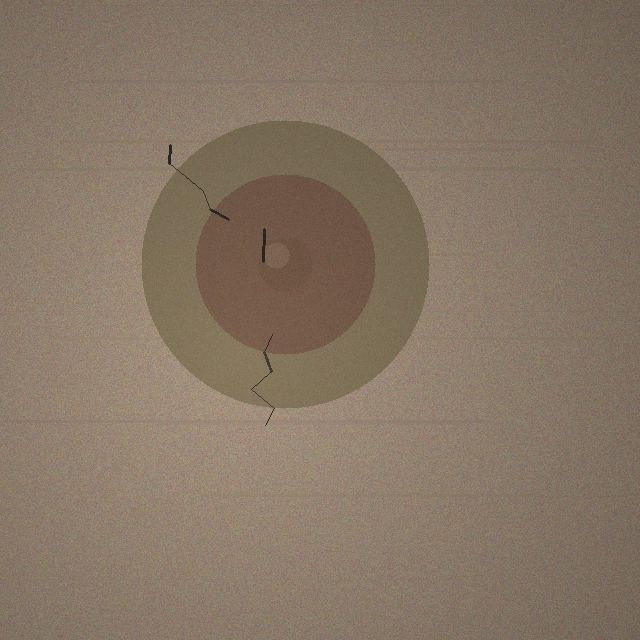crack: (141, 120, 429, 408)
